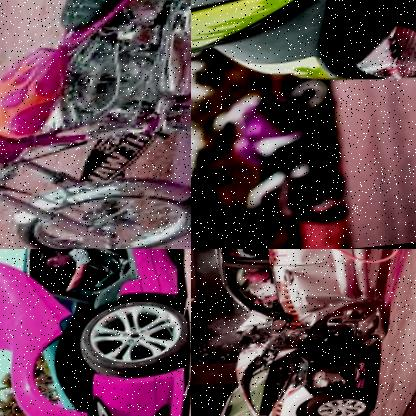bike: (191, 0, 416, 143), (202, 74, 354, 246)
car: (0, 249, 191, 416), (209, 249, 388, 357), (205, 327, 371, 416)
